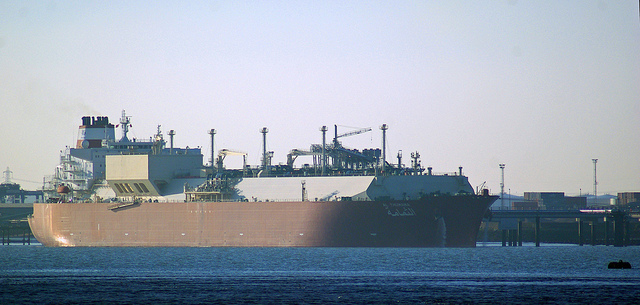LNG_ship: (27, 114, 495, 247)
